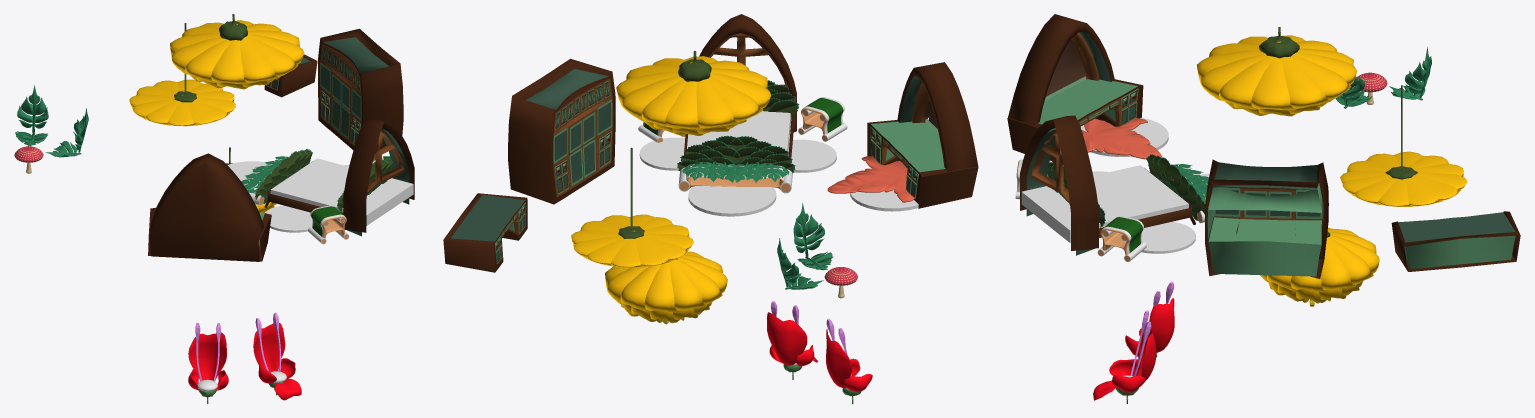
File: FurnitureLvl4.fbx
3 renders of one model, left to right at view 1: azimuth 30°, elevation 25°; view 2: azimuth 150°, elevation 25°; view 3: azimuth 270°, elevation 25°, orthographic. The views are drawn at different scales.
Visible parts, largest first — view 1: Desk.UNTOUCHED.001, Desk.UNTOUCHED.002, Circle.071, Desk.UNTOUCHED.004, Cube.005, Circle.013, Circle.082, Desk.UNTOUCHED.003, Circle.088, SpikyLeaf.002, Cylinder.014, BigLeaf.004 (+10 smaller); view 2: Desk.UNTOUCHED.002, Desk.UNTOUCHED.001, Circle.071, Circle.076, Circle.013, Desk.UNTOUCHED.003, Desk.UNTOUCHED.004, SpikyLeaf.002, Cylinder.014, Cylinder.015, Leaf1, Cube.005 (+14 smaller); view 3: Desk.UNTOUCHED.002, Desk.UNTOUCHED.001, Circle.071, Desk.UNTOUCHED.004, Desk.UNTOUCHED.003, Cube.005, Circle.013, Circle.076, Leaf1, Cylinder.014, SpikyLeaf.002, Cylinder.076 (+10 smaller).
Part boxes in pixels (bbox=[...]): Desk.UNTOUCHED.001: bbox=[148, 153, 271, 261]; Desk.UNTOUCHED.002: bbox=[318, 28, 403, 151]; Circle.071: bbox=[170, 20, 304, 84]; Desk.UNTOUCHED.004: bbox=[264, 118, 414, 236]; Cube.005: bbox=[270, 158, 413, 225]; Circle.013: bbox=[129, 79, 235, 126]; Circle.082: bbox=[188, 332, 227, 380]; Desk.UNTOUCHED.003: bbox=[264, 54, 317, 97]; Circle.088: bbox=[253, 323, 285, 372]; SpikyLeaf.002: bbox=[255, 149, 312, 203]; Cylinder.014: bbox=[265, 165, 349, 232]; BigLeaf.004: bbox=[17, 85, 48, 133]; Desk.UNTOUCHED.002: bbox=[508, 58, 615, 204]; Desk.UNTOUCHED.001: bbox=[867, 62, 978, 208]; Circle.071: bbox=[616, 56, 770, 129]; Circle.076: bbox=[605, 251, 727, 312]; Circle.013: bbox=[571, 214, 693, 267]; Desk.UNTOUCHED.003: bbox=[443, 193, 527, 272]; Desk.UNTOUCHED.004: bbox=[684, 14, 796, 164]; SpikyLeaf.002: bbox=[677, 135, 795, 172]; Cylinder.014: bbox=[639, 137, 836, 172]; Cylinder.015: bbox=[688, 186, 776, 216]; Leaf1: bbox=[827, 156, 914, 202]; Cube.005: bbox=[687, 111, 791, 151]; Desk.UNTOUCHED.002: bbox=[1205, 159, 1328, 278]; Desk.UNTOUCHED.001: bbox=[1007, 14, 1143, 164]; Circle.071: bbox=[1197, 35, 1357, 110]; Desk.UNTOUCHED.004: bbox=[1020, 115, 1195, 255]; Desk.UNTOUCHED.003: bbox=[1391, 211, 1520, 271]; Cube.005: bbox=[1021, 165, 1188, 242]; Circle.013: bbox=[1340, 151, 1467, 206]; Circle.076: bbox=[1260, 227, 1379, 292]; Leaf1: bbox=[1081, 118, 1161, 159]; Cylinder.014: bbox=[1092, 171, 1195, 253]; SpikyLeaf.002: bbox=[1146, 154, 1205, 220]; Cylinder.076: bbox=[1100, 216, 1143, 254].
Bounding box in the file's own units: 1276 × 1242 × 1485.
